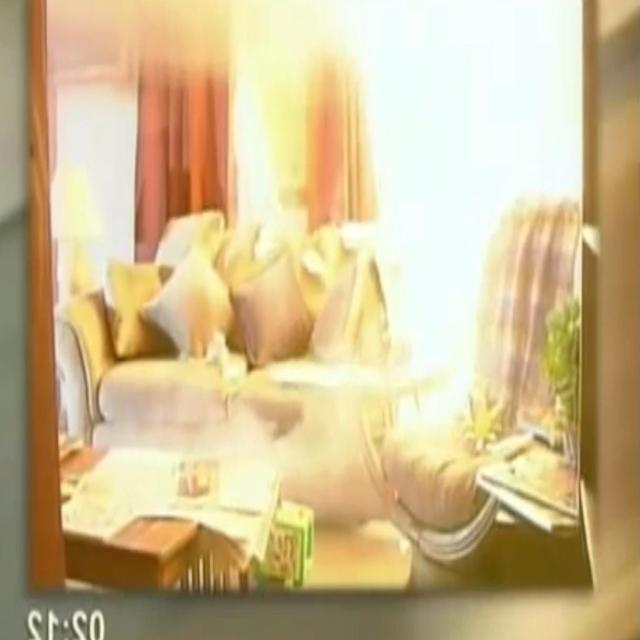smoke: (385, 69, 503, 426)
